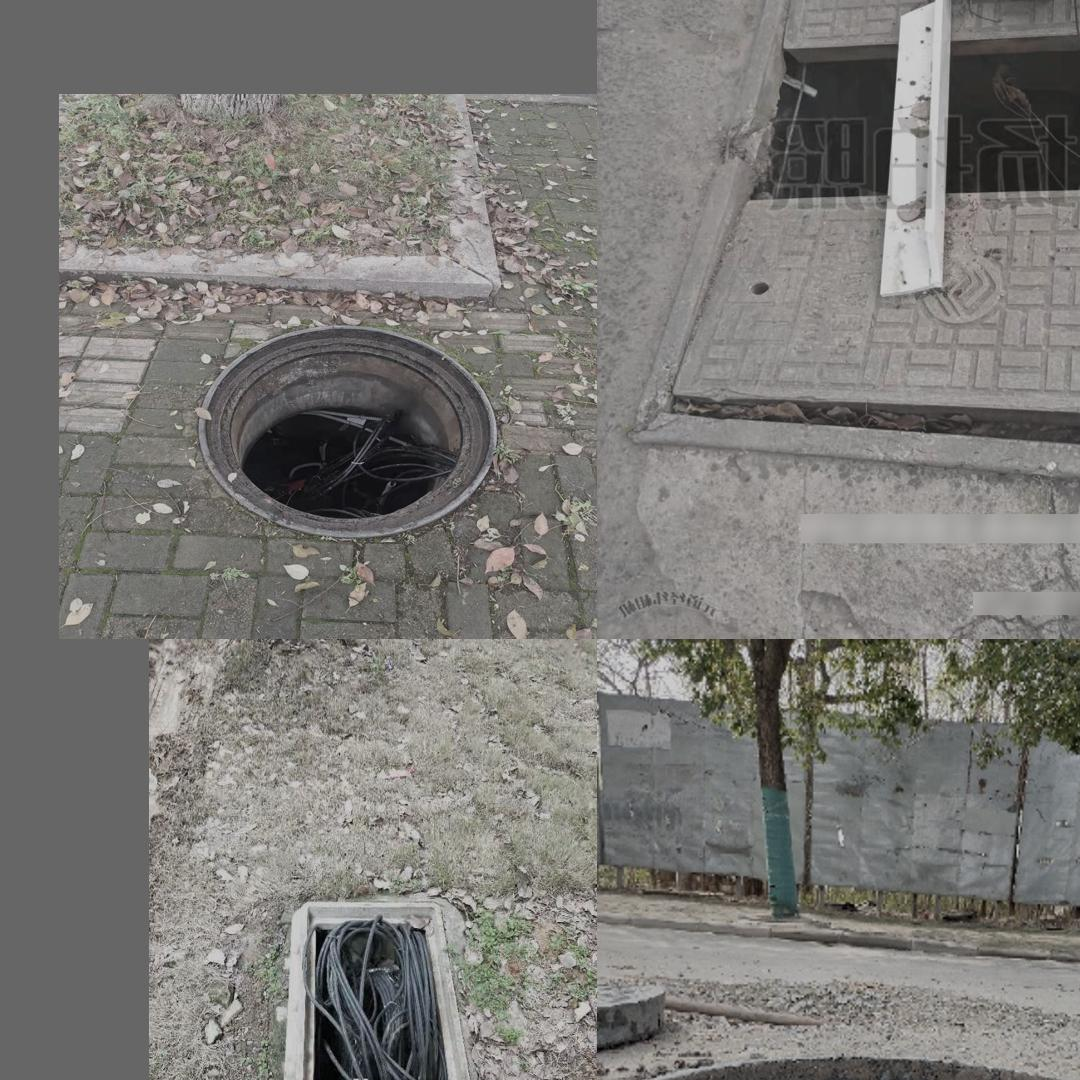lose: (627, 0, 1080, 503), (197, 324, 493, 538), (292, 891, 467, 1080), (597, 1057, 1080, 1080)
